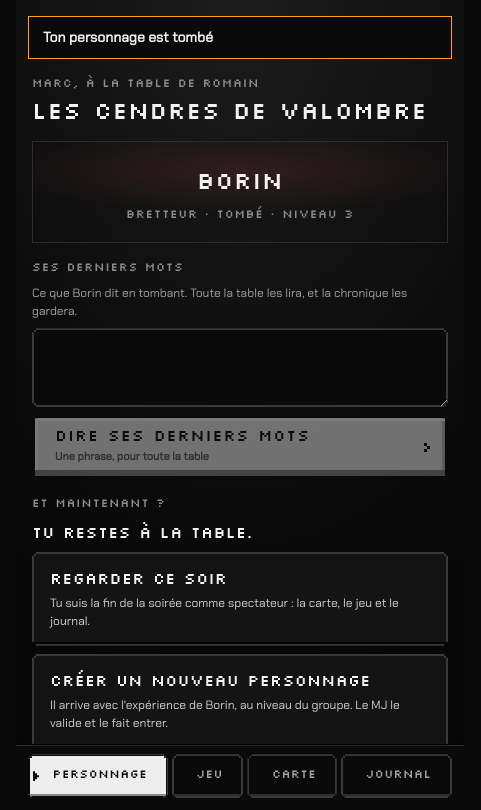
Test case: PlayerHomePage › after a death: the last words once, then what comes next
The image size is (481, 810).
Expected: the text "Bretteur · Tombé · niveau 3" is shown, [126,206,354,222]
Expected: the message reads "Ton personnage est tombé", [43,28,213,46]
Step 1. Type "Dis à Dorn que je suis descendu le chercher." into the text box named "Ses derniers mots" → (240, 368), box [32,328,448,407]
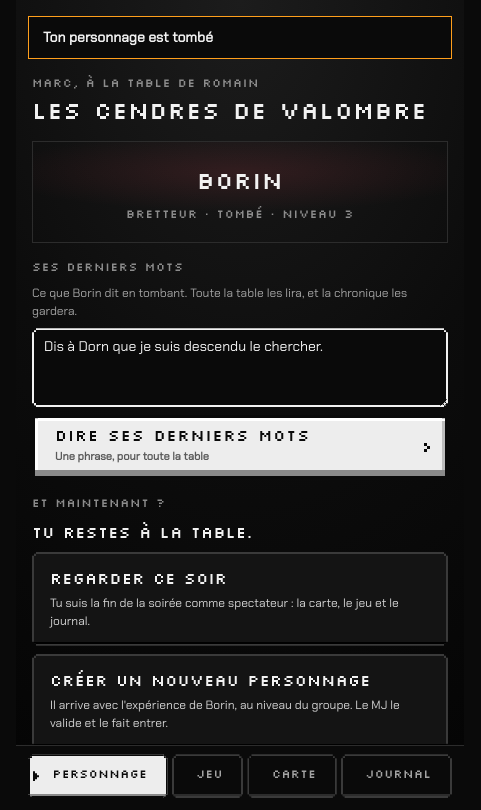
Step 2. Click the button "Dire ses derniers mots Une phrase, pour toute la table ›" → (240, 447), box [32,415,448,479]
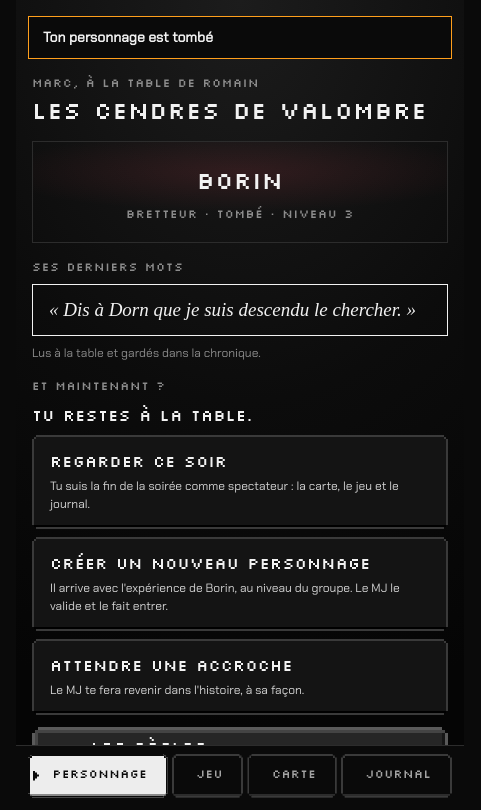
Step 3. Click the button "Créer un nouveau personnage" → (240, 584), box [32,537,448,631]
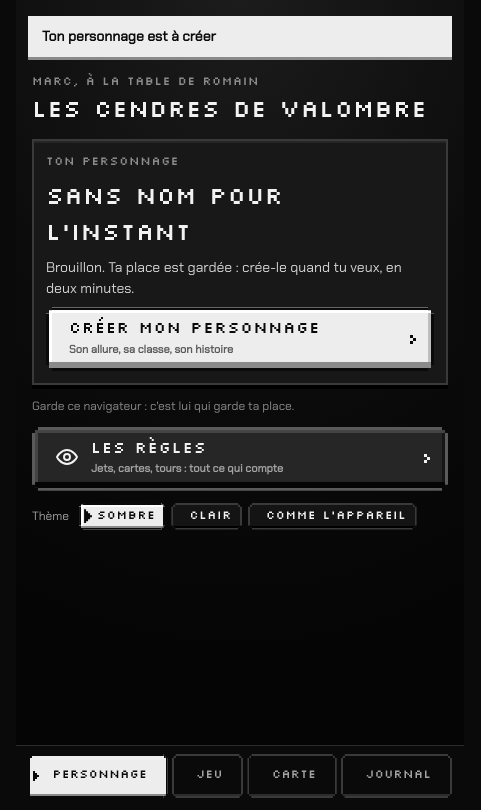
Result: the text "Brouillon. Ta place est gardée : crée-le quand tu veux, en deux minutes." is shown at [46,257,434,299]
Result: the button "Attendre une accroche" is gone
